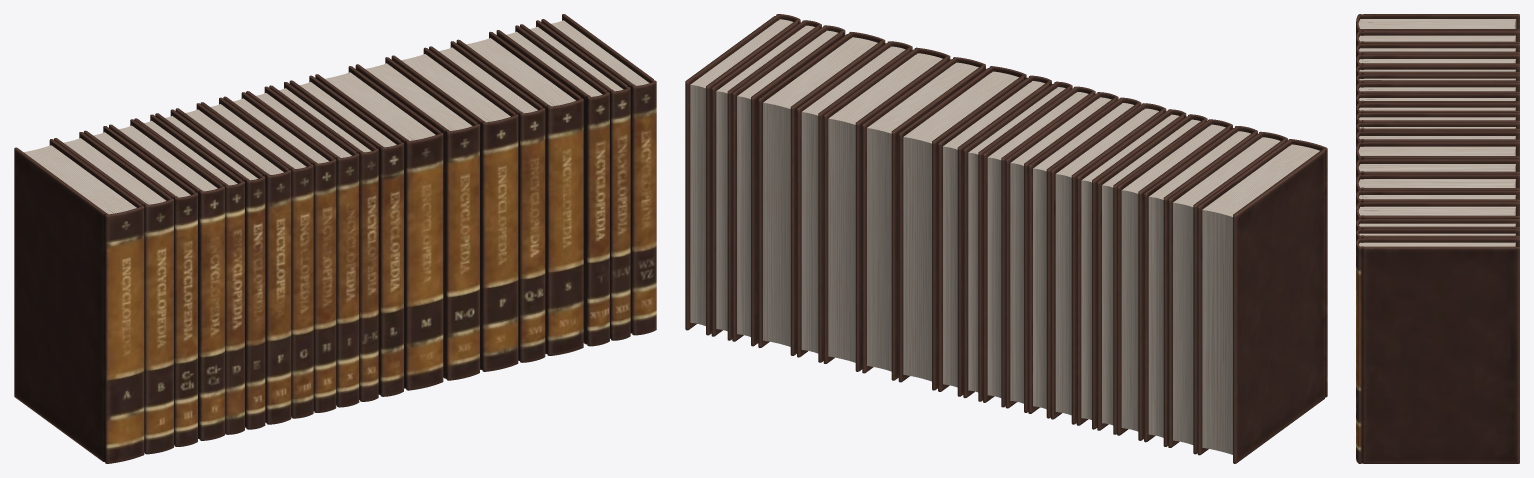
File: books.glb
3 renders of one model, left to right at view 1: azimuth 30°, elevation 25°; view 2: azimuth 150°, elevation 25°; view 3: azimuth 270°, elevation 25°, orthographic. The views are drawn at different scales.
Visible parts, largest first — view 1: book_encyclopedia_set_01_book01, book_encyclopedia_set_01_book13, book_encyclopedia_set_01_book15, book_encyclopedia_set_01_book17, book_encyclopedia_set_01_book14, book_encyclopedia_set_01_book02, book_encyclopedia_set_01_book16, book_encyclopedia_set_01_book04, book_encyclopedia_set_01_book18, book_encyclopedia_set_01_book20, book_encyclopedia_set_01_book07, book_encyclopedia_set_01_book12 (+8 smaller); view 2: book_encyclopedia_set_01_book01, book_encyclopedia_set_01_book13, book_encyclopedia_set_01_book15, book_encyclopedia_set_01_book17, book_encyclopedia_set_01_book14, book_encyclopedia_set_01_book02, book_encyclopedia_set_01_book04, book_encyclopedia_set_01_book16, book_encyclopedia_set_01_book18, book_encyclopedia_set_01_book20, book_encyclopedia_set_01_book07, book_encyclopedia_set_01_book12 (+8 smaller); view 3: book_encyclopedia_set_01_book20, book_encyclopedia_set_01_book13, book_encyclopedia_set_01_book01, book_encyclopedia_set_01_book17, book_encyclopedia_set_01_book15, book_encyclopedia_set_01_book14, book_encyclopedia_set_01_book02, book_encyclopedia_set_01_book16, book_encyclopedia_set_01_book03, book_encyclopedia_set_01_book12, book_encyclopedia_set_01_book07, book_encyclopedia_set_01_book04 (+8 smaller).
Boxes of the visible parts, bbox=[...] form: book_encyclopedia_set_01_book01: bbox=[14, 139, 144, 463]; book_encyclopedia_set_01_book13: bbox=[315, 66, 443, 390]; book_encyclopedia_set_01_book15: bbox=[391, 47, 518, 371]; book_encyclopedia_set_01_book17: bbox=[456, 31, 583, 355]; book_encyclopedia_set_01_book14: bbox=[355, 57, 479, 380]; book_encyclopedia_set_01_book02: bbox=[54, 132, 173, 454]; book_encyclopedia_set_01_book16: bbox=[429, 41, 545, 362]; book_encyclopedia_set_01_book04: bbox=[109, 119, 224, 440]; book_encyclopedia_set_01_book18: bbox=[496, 25, 609, 346]; book_encyclopedia_set_01_book20: bbox=[541, 14, 656, 335]; book_encyclopedia_set_01_book07: bbox=[175, 103, 291, 424]; book_encyclopedia_set_01_book12: bbox=[289, 75, 403, 396]; book_encyclopedia_set_01_book01: bbox=[1197, 139, 1327, 463]; book_encyclopedia_set_01_book13: bbox=[898, 66, 1026, 390]; book_encyclopedia_set_01_book15: bbox=[823, 47, 950, 371]; book_encyclopedia_set_01_book17: bbox=[758, 32, 885, 355]; book_encyclopedia_set_01_book14: bbox=[862, 57, 985, 380]; book_encyclopedia_set_01_book02: bbox=[1168, 131, 1287, 454]; book_encyclopedia_set_01_book04: bbox=[1117, 119, 1232, 440]; book_encyclopedia_set_01_book16: bbox=[797, 41, 912, 362]; book_encyclopedia_set_01_book18: bbox=[732, 25, 845, 346]; book_encyclopedia_set_01_book20: bbox=[685, 14, 800, 335]; book_encyclopedia_set_01_book07: bbox=[1051, 103, 1166, 424]; book_encyclopedia_set_01_book12: bbox=[938, 75, 1051, 396]; book_encyclopedia_set_01_book20: bbox=[1356, 238, 1519, 463]; book_encyclopedia_set_01_book13: bbox=[1356, 142, 1519, 164]; book_encyclopedia_set_01_book01: bbox=[1356, 14, 1519, 35]; book_encyclopedia_set_01_book17: bbox=[1356, 202, 1519, 222]; book_encyclopedia_set_01_book15: bbox=[1356, 174, 1519, 194]; book_encyclopedia_set_01_book14: bbox=[1356, 159, 1519, 180]; book_encyclopedia_set_01_book02: bbox=[1356, 30, 1519, 47]; book_encyclopedia_set_01_book16: bbox=[1356, 190, 1519, 208]; book_encyclopedia_set_01_book03: bbox=[1356, 43, 1519, 58]; book_encyclopedia_set_01_book12: bbox=[1356, 131, 1519, 148]; book_encyclopedia_set_01_book07: bbox=[1356, 82, 1519, 96]; book_encyclopedia_set_01_book04: bbox=[1356, 54, 1519, 68].
Size of the model in its own units: 0.5513 by 0.2374 by 0.1631.
2 materials, 2 textured.
